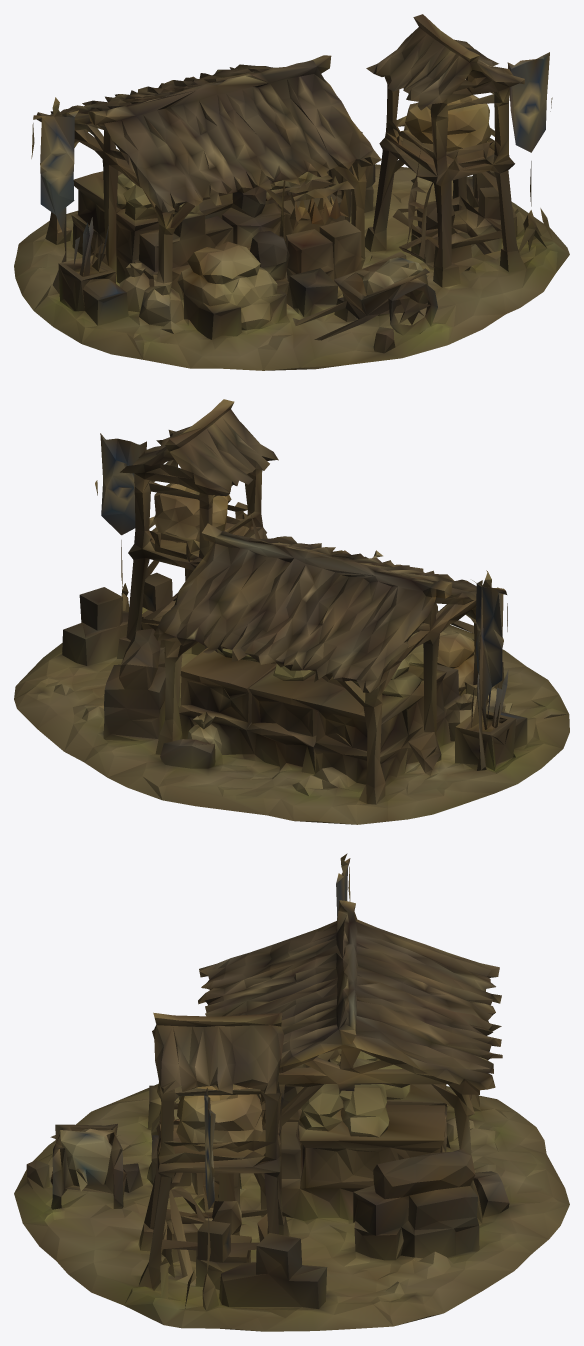
File: bq_carpentry.vc.glb
3 renders of one model, top to bottom at view 1: azimuth 30°, elevation 25°; view 2: azimuth 150°, elevation 25°; view 3: azimuth 270°, elevation 25°, orthographic. The views are drawn at different scales.
Parts seen in each view (by area): view 1: bq_carpentry; view 2: bq_carpentry; view 3: bq_carpentry.
Boxes of the visible parts, bbox=[...] form: bq_carpentry: bbox=[14, 14, 569, 370]; bq_carpentry: bbox=[14, 399, 569, 824]; bq_carpentry: bbox=[14, 853, 569, 1331].
Bounding box in the file's own units: 1.89 × 0.8677 × 1.7.
